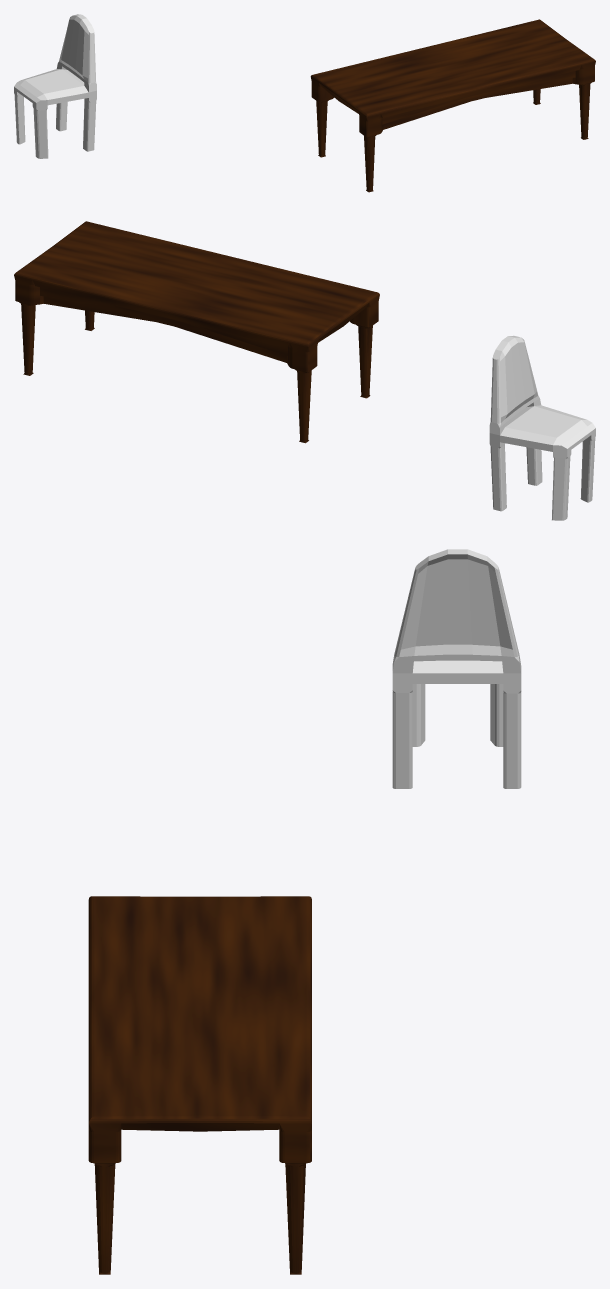
Rendered from Table.fbx.
3 views of the same model, one above another, from view 1: azimuth 30°, elevation 25°; view 2: azimuth 150°, elevation 25°; view 3: azimuth 270°, elevation 25° (orthographic). The views are drawn at different scales.
Visible parts, largest first — view 1: Cube.001, Chair; view 2: Cube.001, Chair; view 3: Cube.001, Chair.
Boxes of the visible parts, x1,y1,x2,y2 form: Cube.001: [310, 19, 595, 192]; Chair: [14, 14, 96, 158]; Cube.001: [14, 221, 379, 443]; Chair: [489, 335, 595, 520]; Cube.001: [88, 896, 311, 1274]; Chair: [392, 549, 521, 788].
Size of the model in its own units: 1719 by 542 by 672.
Materials: 1 (1 with a texture image).
